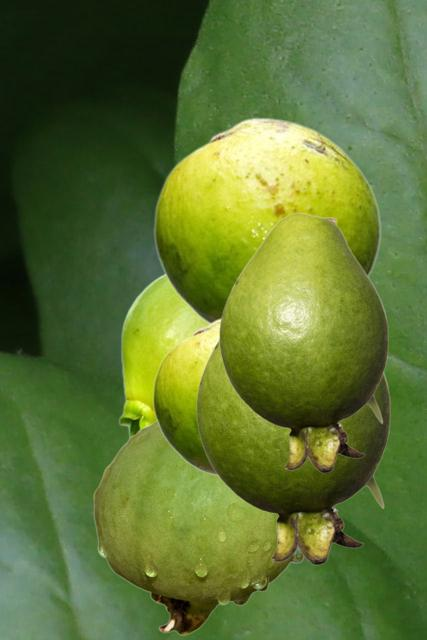guava: (153, 117, 381, 323), (93, 420, 304, 634), (219, 212, 387, 472), (196, 338, 389, 564), (118, 274, 206, 437), (152, 318, 219, 476)
